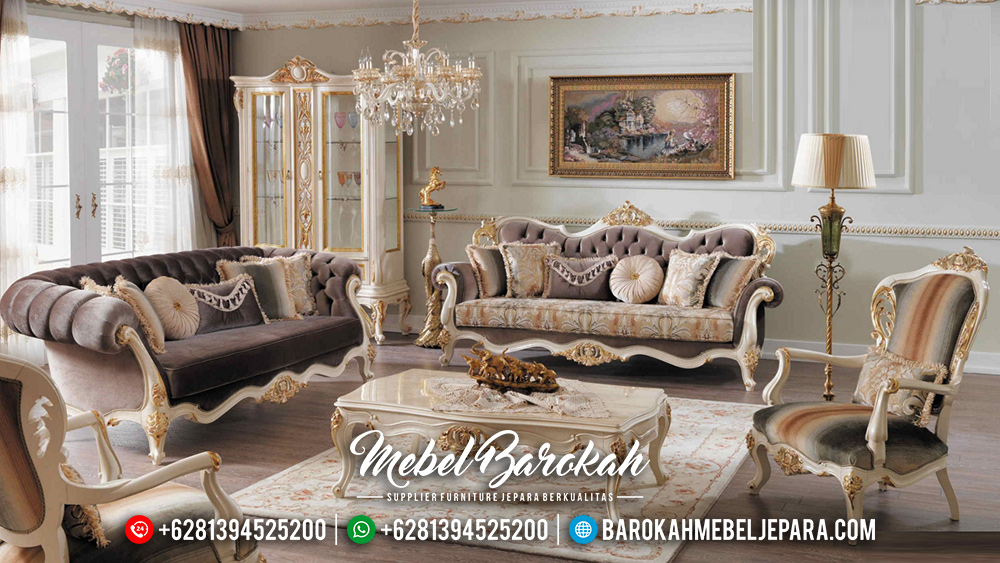Carving Chair: (7, 251, 375, 417), (773, 260, 990, 531), (422, 218, 767, 375)
Carving Table: (334, 358, 680, 513)
